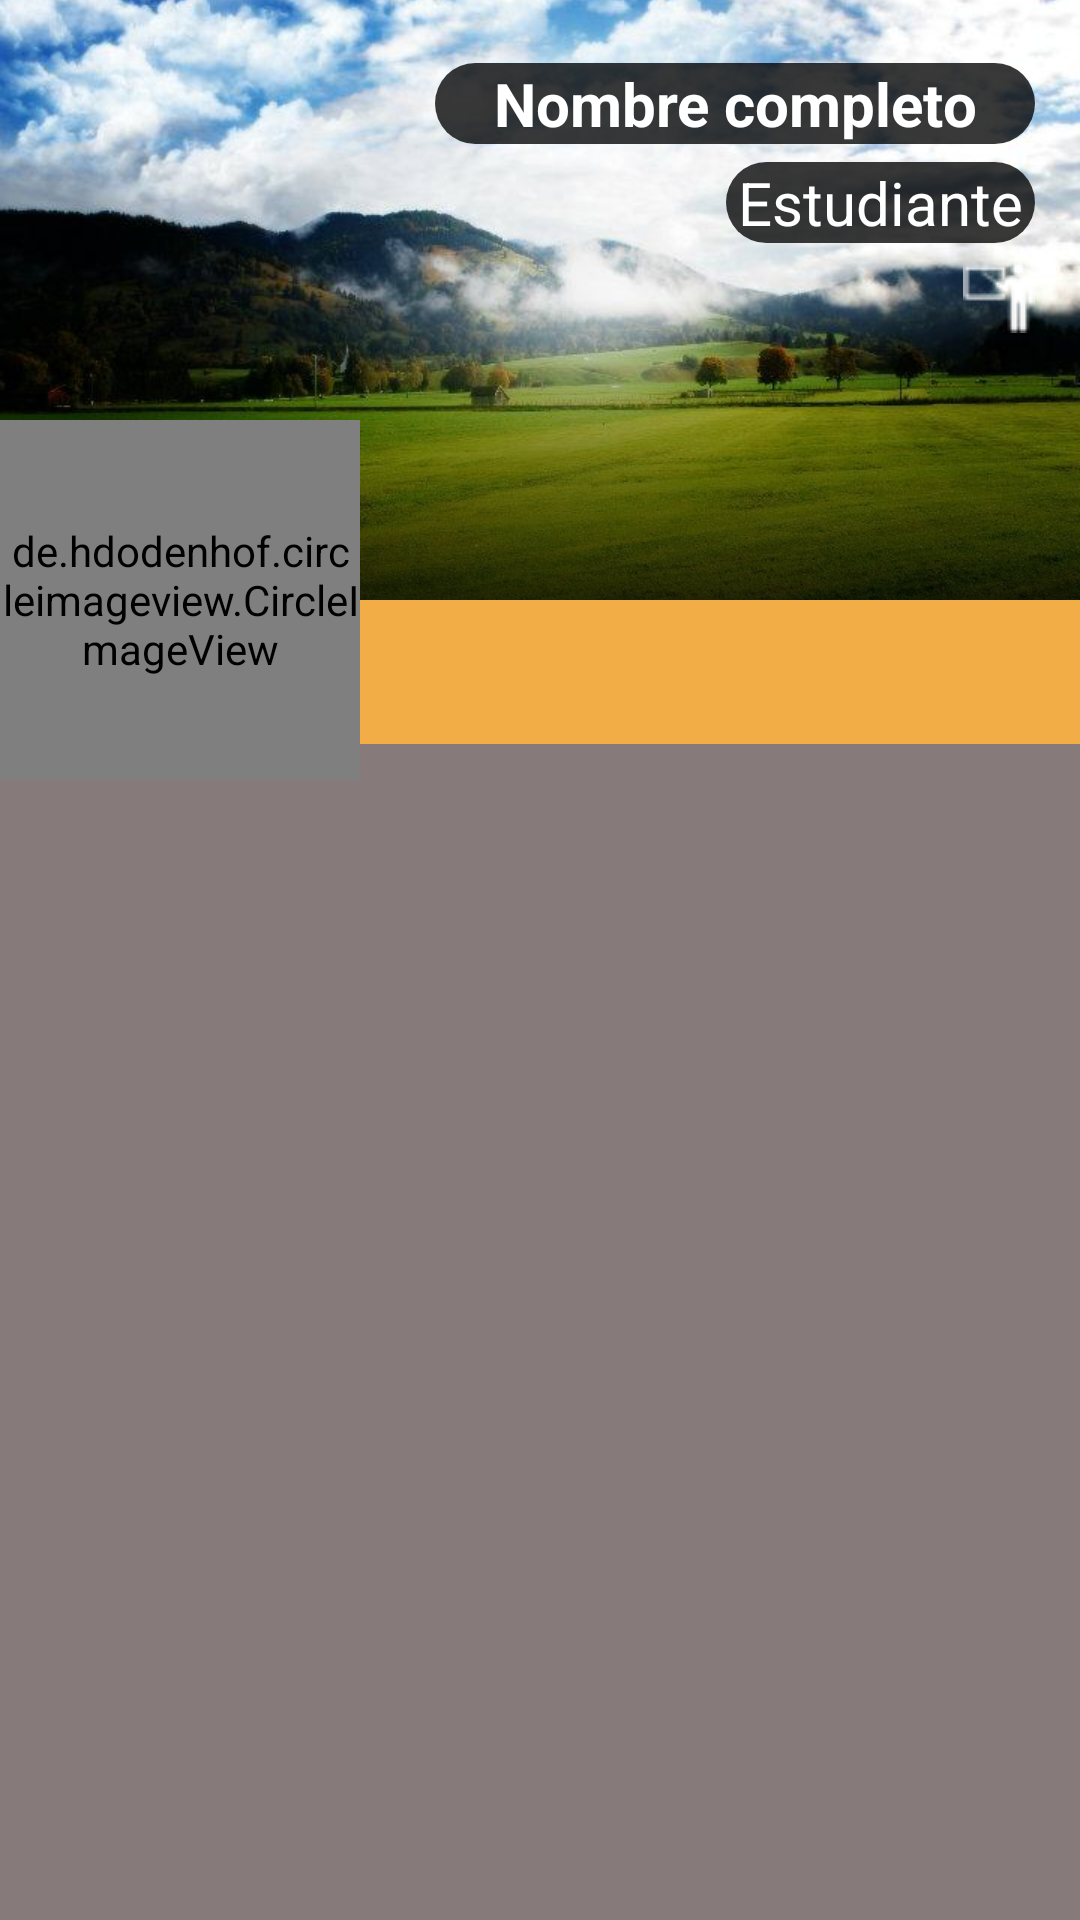

Screen size 1080*1920. Icon name, then its center in pixels as point (x, y):
teacher: point (999, 297)
